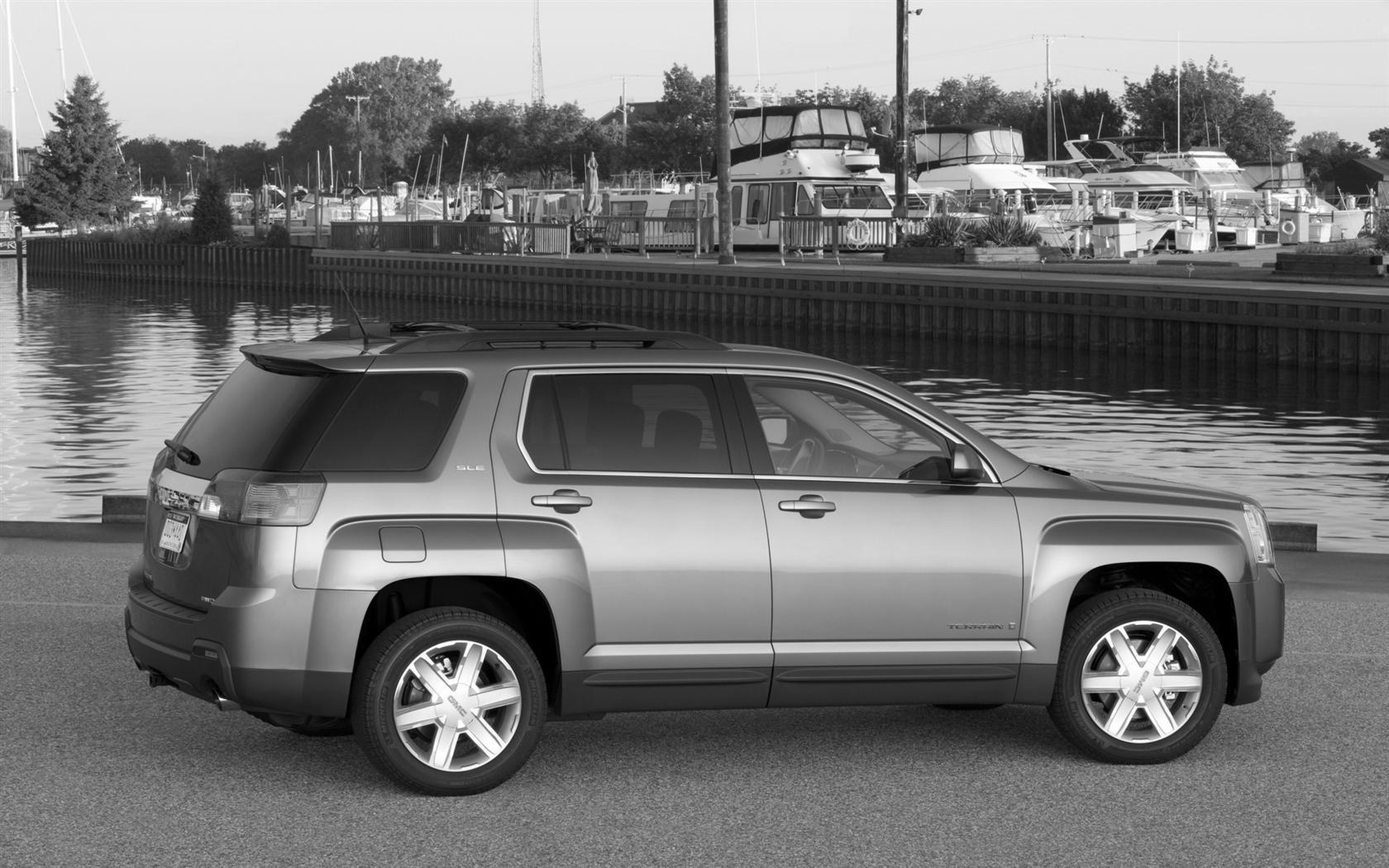car: (126, 322, 1290, 802)
